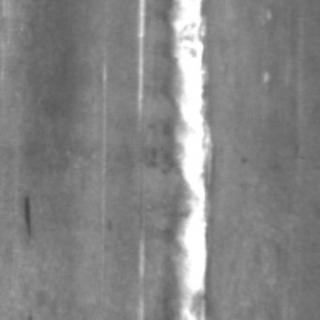inclusion: (16, 188, 34, 236)
scratches: (162, 0, 212, 316), (130, 0, 148, 118), (130, 222, 148, 318)
